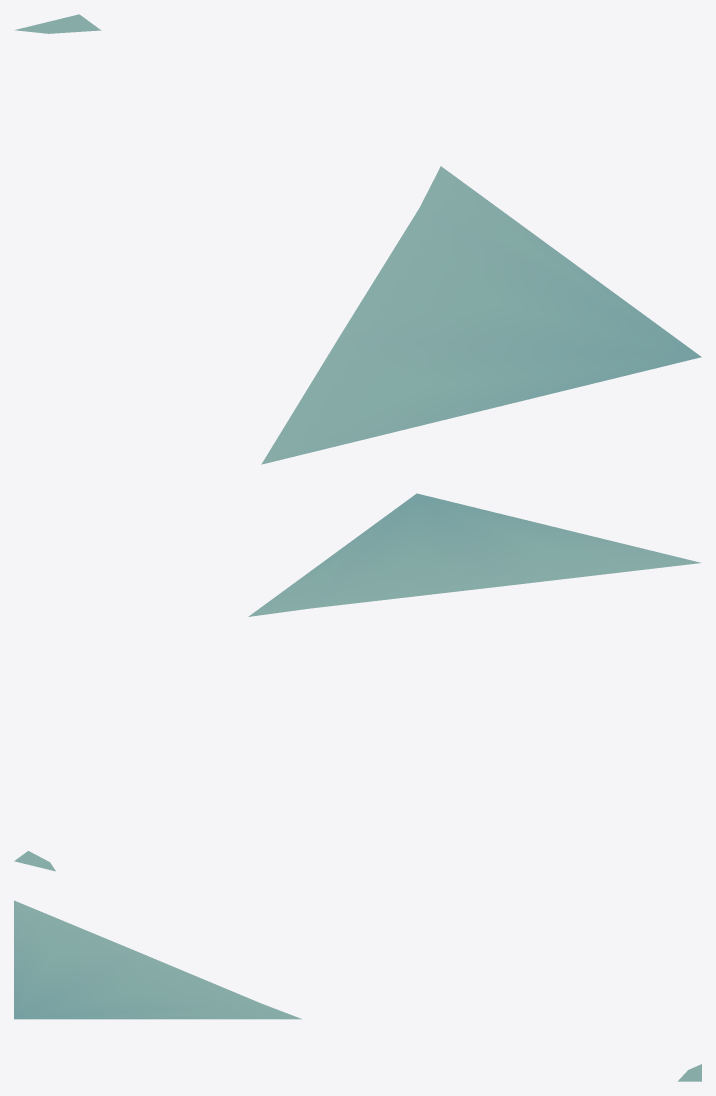
Rendered from water-14-4.glb.
3 views of the same model, one above another, from view 1: azimuth 30°, elevation 25°; view 2: azimuth 150°, elevation 25°; view 3: azimuth 270°, elevation 25° (orthographic). The views are drawn at different scales.
Size of the model in its own units: 6.54 by 1.6 by 16.
